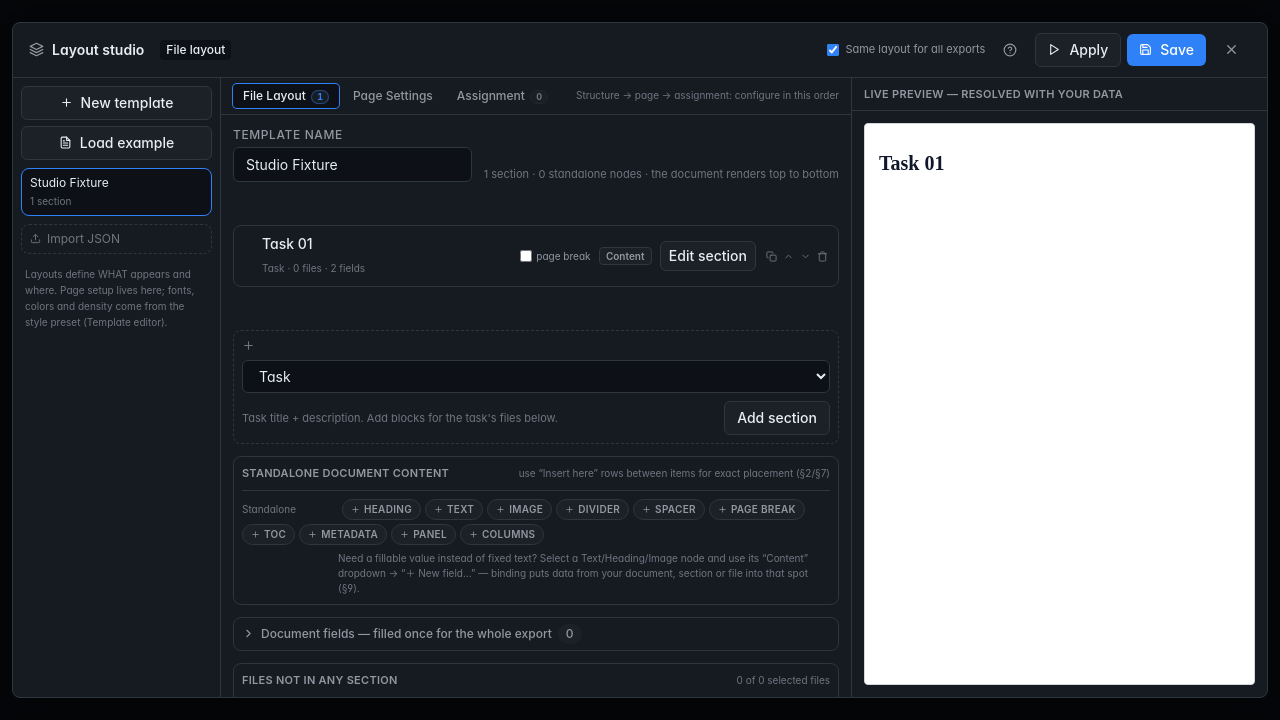
dependent settings are hidden (spec §4) › title page dependents appear only while the title page is enabled
This screenshot has width=1280, height=720.
Click the tab "Page Settings" at x=393, y=96, box 343,84 -> 443,108
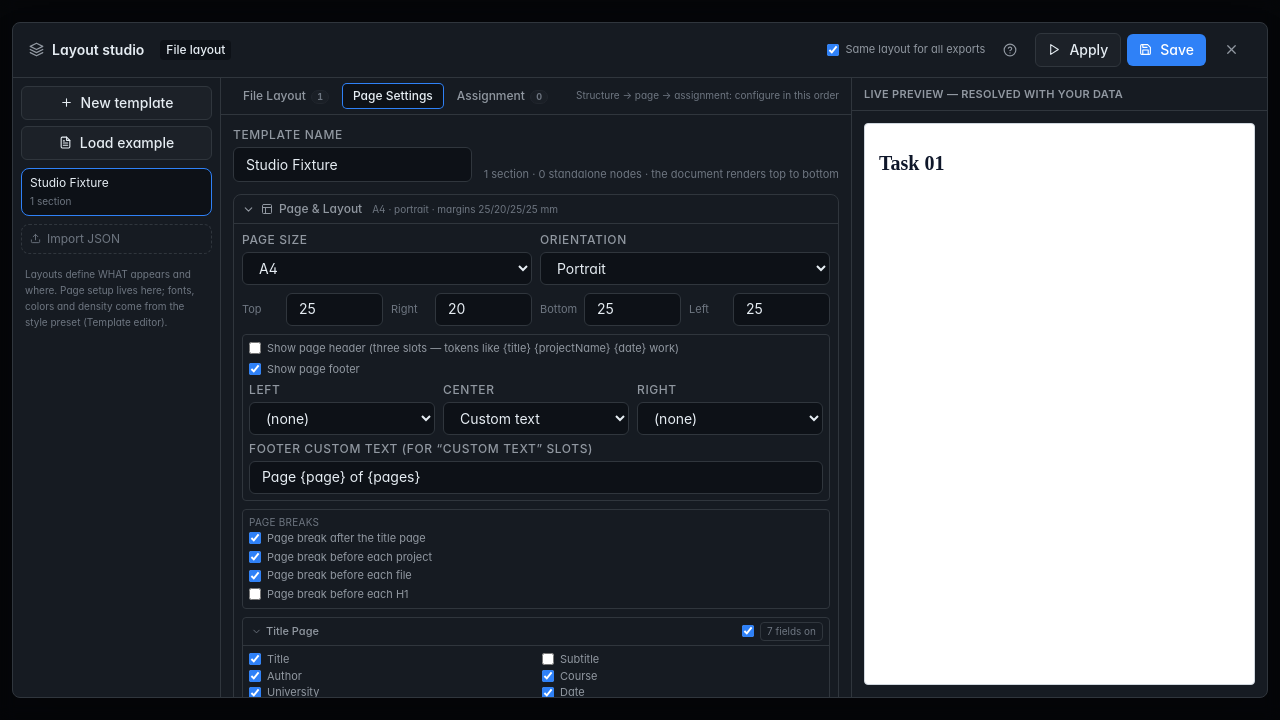
Result: the checkbox named "Show Title on the title page" is shown at 249,653 -> 261,665
Result: the checkbox named "Show Subtitle on the title page" is shown at 542,653 -> 554,665
Result: the checkbox named "Show Author on the title page" is shown at 249,670 -> 261,682
Click the checkbox named "Title page" at x=748, y=631, box 742,625 -> 754,637
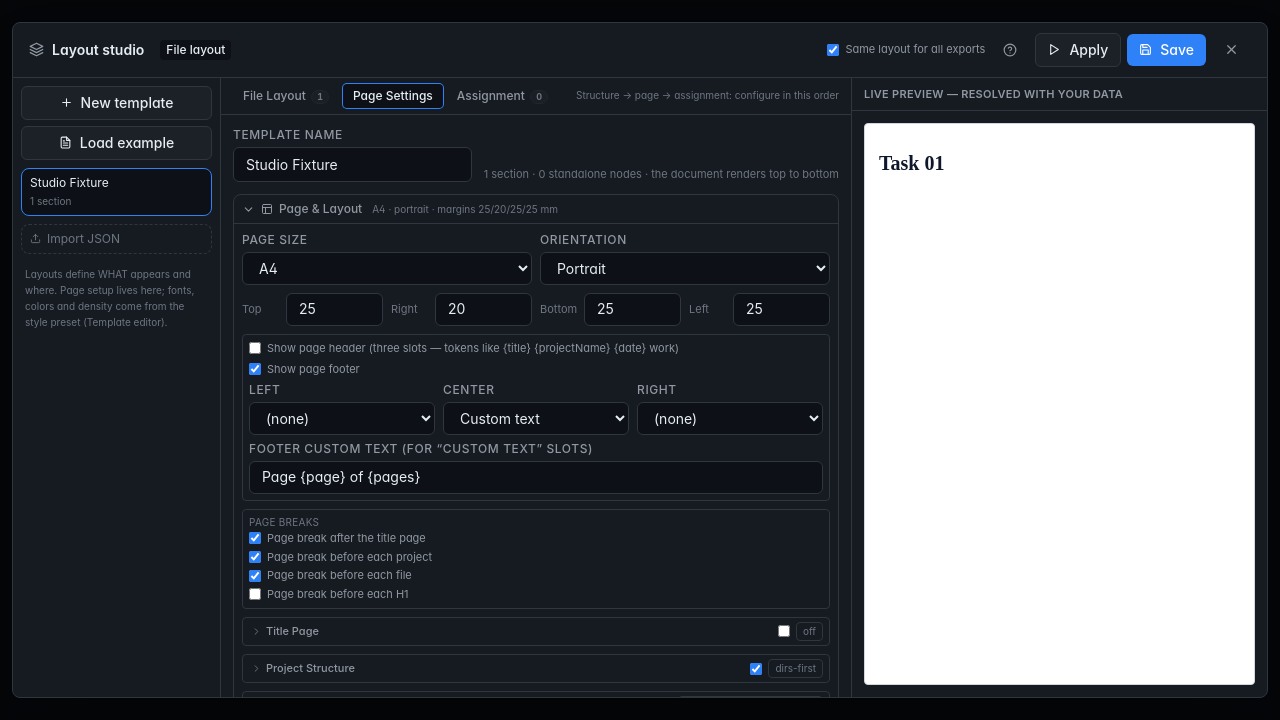
Click the checkbox named "Title page" at x=784, y=631, box 778,625 -> 790,637
(page scrolled)
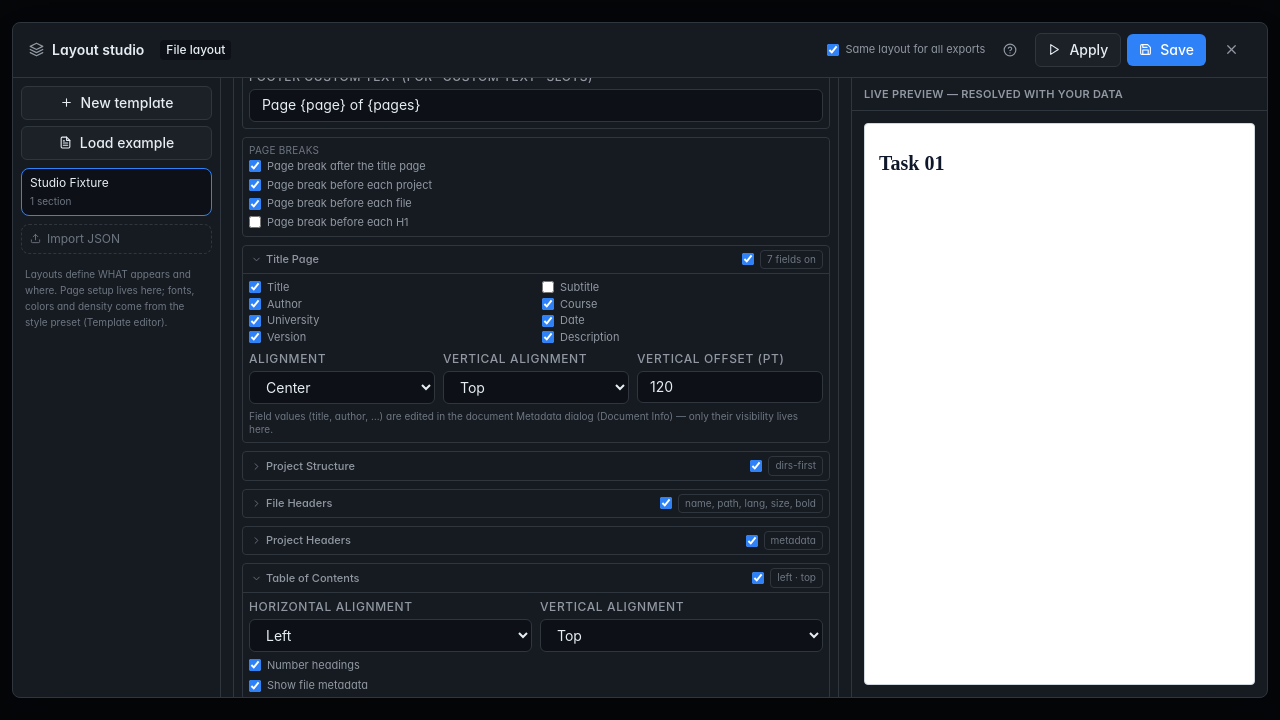
Result: the number field named "Title page vertical offset (pt)" holds "120" at 637,371 -> 823,403
